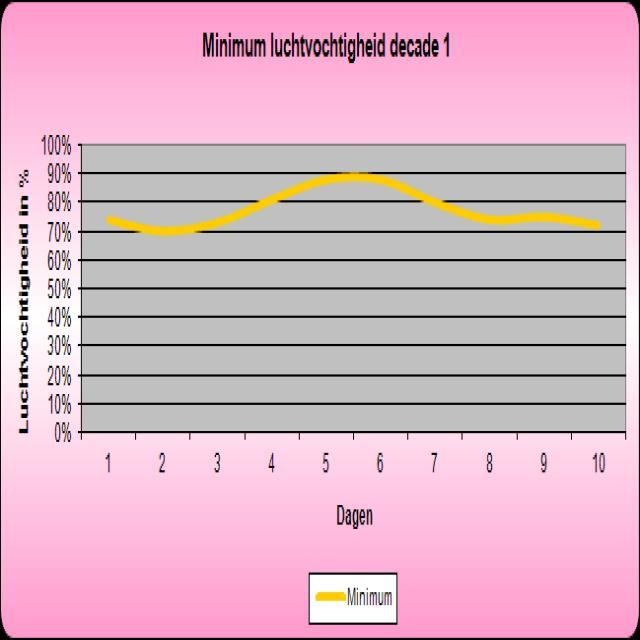axis: (74, 429, 632, 443), (73, 137, 87, 445)
line: (102, 170, 605, 238)
